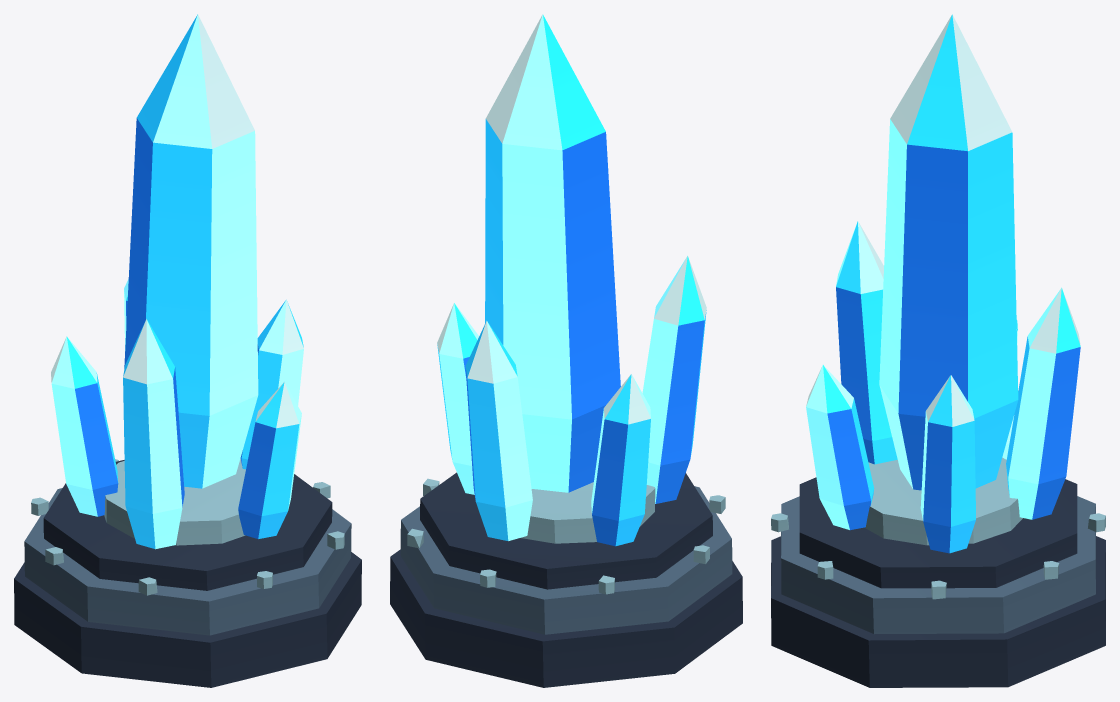
The model's file is freezeTower.gltf.
The picture shows the model from 3 angles, left to right: view 1: azimuth 30°, elevation 25°; view 2: azimuth 150°, elevation 25°; view 3: azimuth 270°, elevation 25°; orthographic projection. The views are drawn at different scales.
Parts seen in each view (by area): view 1: FreezeTower_Crystals, FreezeTower; view 2: FreezeTower_Crystals, FreezeTower; view 3: FreezeTower_Crystals, FreezeTower.
Part boxes in pixels (x1=…): FreezeTower_Crystals: x1=51, y1=14, x2=303, y2=549; FreezeTower: x1=14, y1=458, x2=361, y2=687; FreezeTower_Crystals: x1=437, y1=14, x2=706, y2=546; FreezeTower: x1=390, y1=472, x2=742, y2=687; FreezeTower_Crystals: x1=806, y1=14, x2=1080, y2=553; FreezeTower: x1=771, y1=457, x2=1105, y2=687.
Bounding box in the file's own units: 0.9879 × 1.99 × 0.9889.
Materials: 7 (7 with a texture image).
